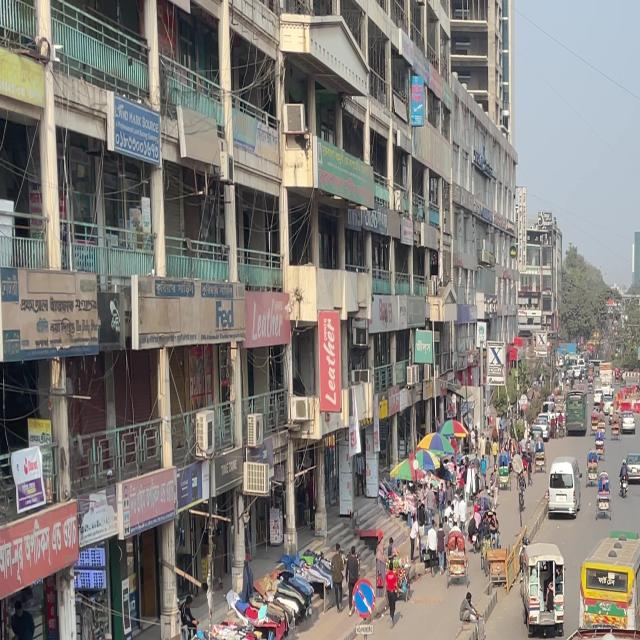bus: (577, 529, 640, 635), (464, 627, 640, 640)
car: (545, 474, 577, 516), (548, 460, 576, 490), (596, 482, 616, 516), (620, 457, 640, 486), (617, 416, 637, 434)
van: (519, 541, 570, 639)
